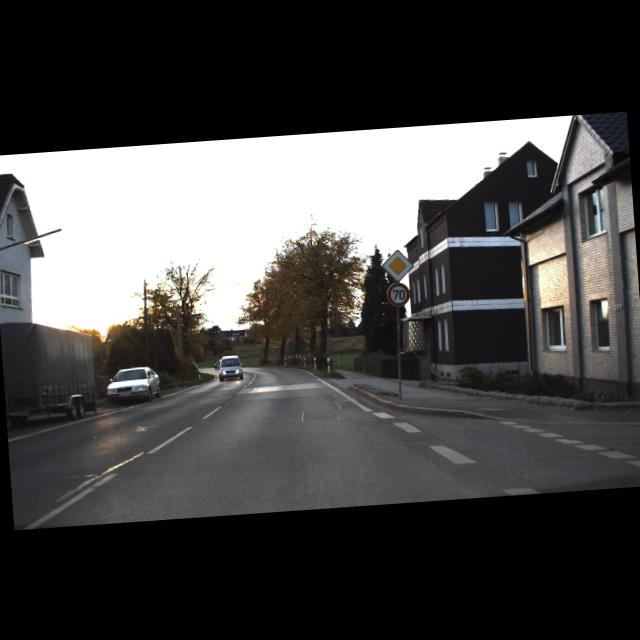other: (380, 247, 414, 282)
prohibitory: (385, 280, 410, 306)
